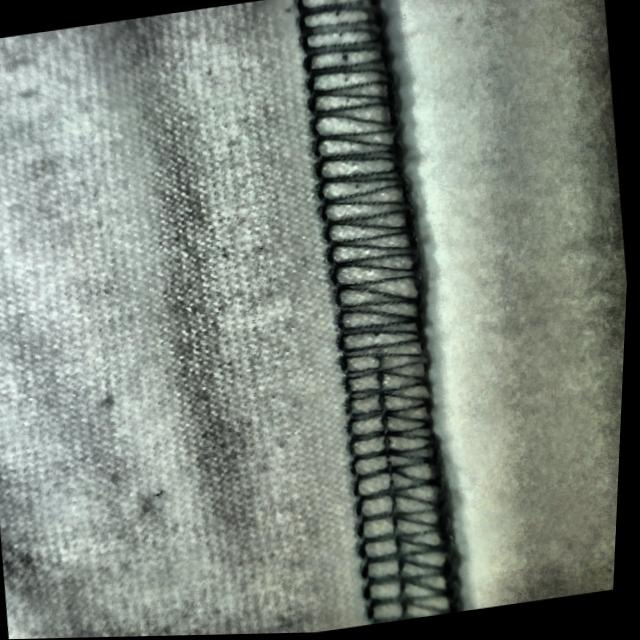Stitch: (305, 164, 468, 596)
